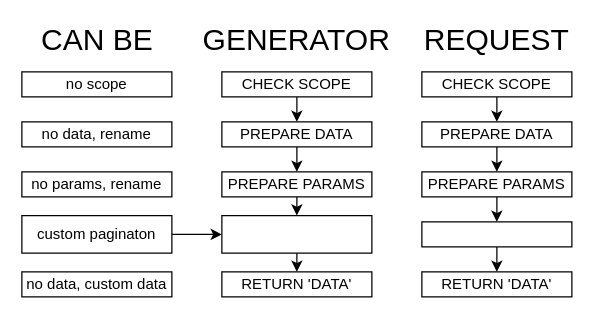
Some shapes in this 594 by 319 pixel diagram are drawn without their labels. Each missing label, with the centre of its shape:
"GET RESPONSE" goes at (496,234).
"HANDLE PAGINATION" goes at (296,233).
